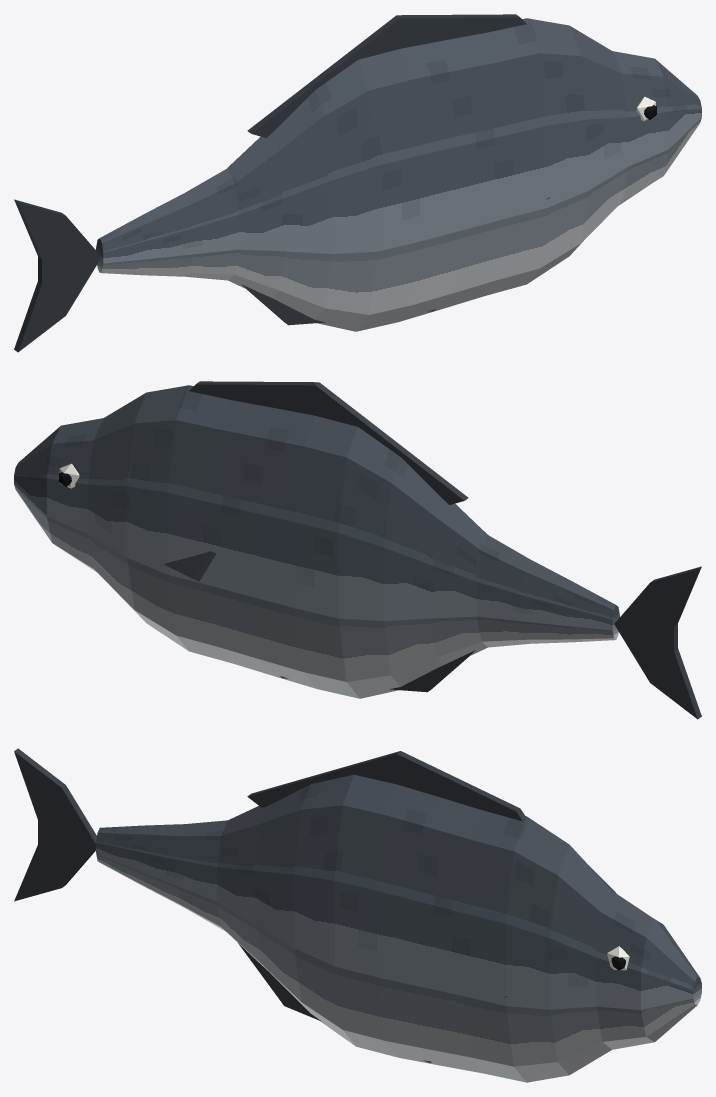
The model's file is giant_trevally.glb.
The picture shows the model from 3 angles, top to bottom: view 1: azimuth 30°, elevation 25°; view 2: azimuth 150°, elevation 25°; view 3: azimuth 330°, elevation 25°; orthographic projection.
Parts seen in each view (by area): view 1: fish_giant_trevally; view 2: fish_giant_trevally; view 3: fish_giant_trevally.
Part boxes in pixels (<box>): fish_giant_trevally: <box>14,14,701,352</box>; fish_giant_trevally: <box>14,381,701,719</box>; fish_giant_trevally: <box>14,748,701,1082</box>.
Bounding box in the file's own units: 1.14 × 0.4881 × 0.1527.
4 materials, 1 textured.
